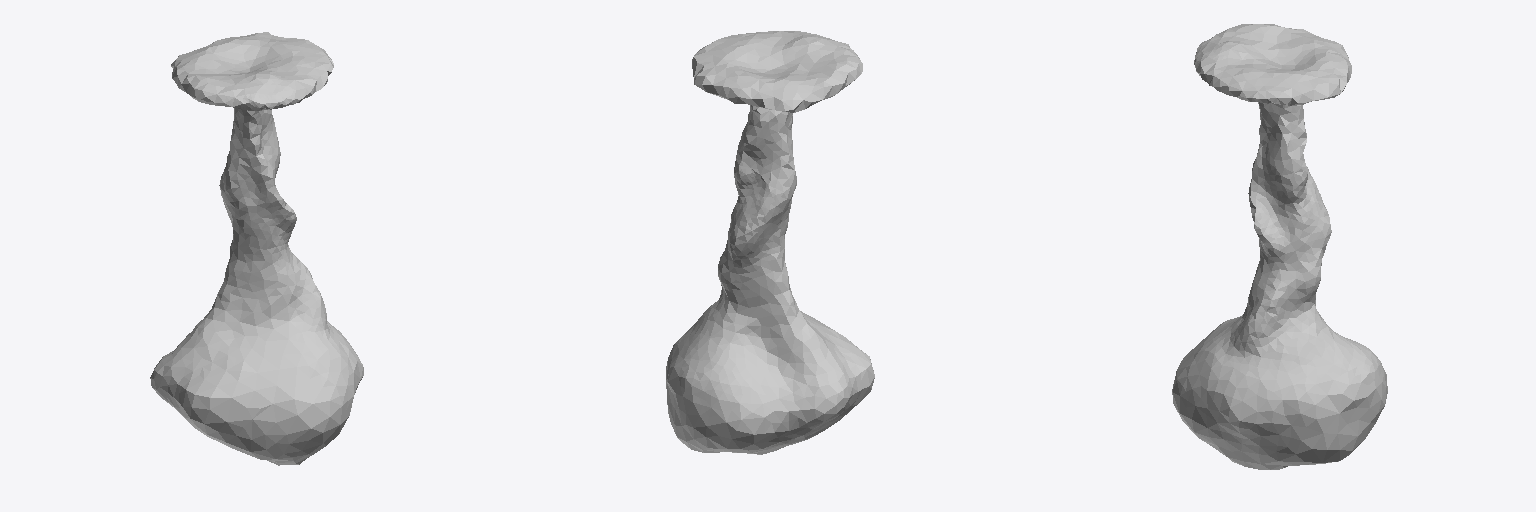
File: Pillar.obj
3 views of the same model, side by side, from view 1: azimuth 30°, elevation 25°; view 2: azimuth 150°, elevation 25°; view 3: azimuth 270°, elevation 25° (orthographic).
Parts seen in each view (by area): view 1: Main_pillar_Icosphere.004; view 2: Main_pillar_Icosphere.004; view 3: Main_pillar_Icosphere.004.
Part boxes in pixels (left/top/right/bottom): Main_pillar_Icosphere.004: left=150, top=32, right=363, bottom=465; Main_pillar_Icosphere.004: left=666, top=31, right=874, bottom=454; Main_pillar_Icosphere.004: left=1172, top=24, right=1387, bottom=469.
Size of the model in its own units: 11.82 by 25.65 by 12.4.